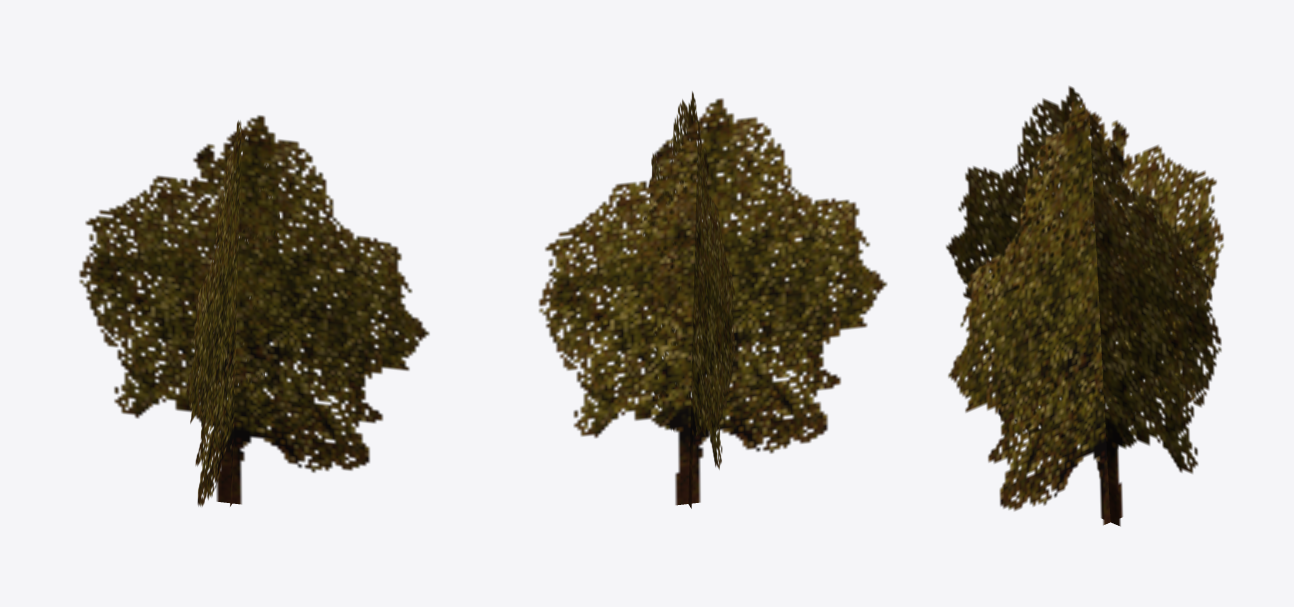
The model's file is tree026.glb.
3 views of the same model, side by side, from view 1: azimuth 30°, elevation 25°; view 2: azimuth 150°, elevation 25°; view 3: azimuth 270°, elevation 25° (orthographic). The views are drawn at different scales.
Parts seen in each view (by area): view 1: tree026; view 2: tree026; view 3: tree026.
Boxes of the visible parts, box(x1,y1,x2,y2) form: tree026: box(79, 115, 429, 506); tree026: box(538, 91, 887, 508); tree026: box(946, 86, 1223, 526).
Size of the model in its own units: 2.28 by 3.1 by 2.21.
1 material, 1 textured.
